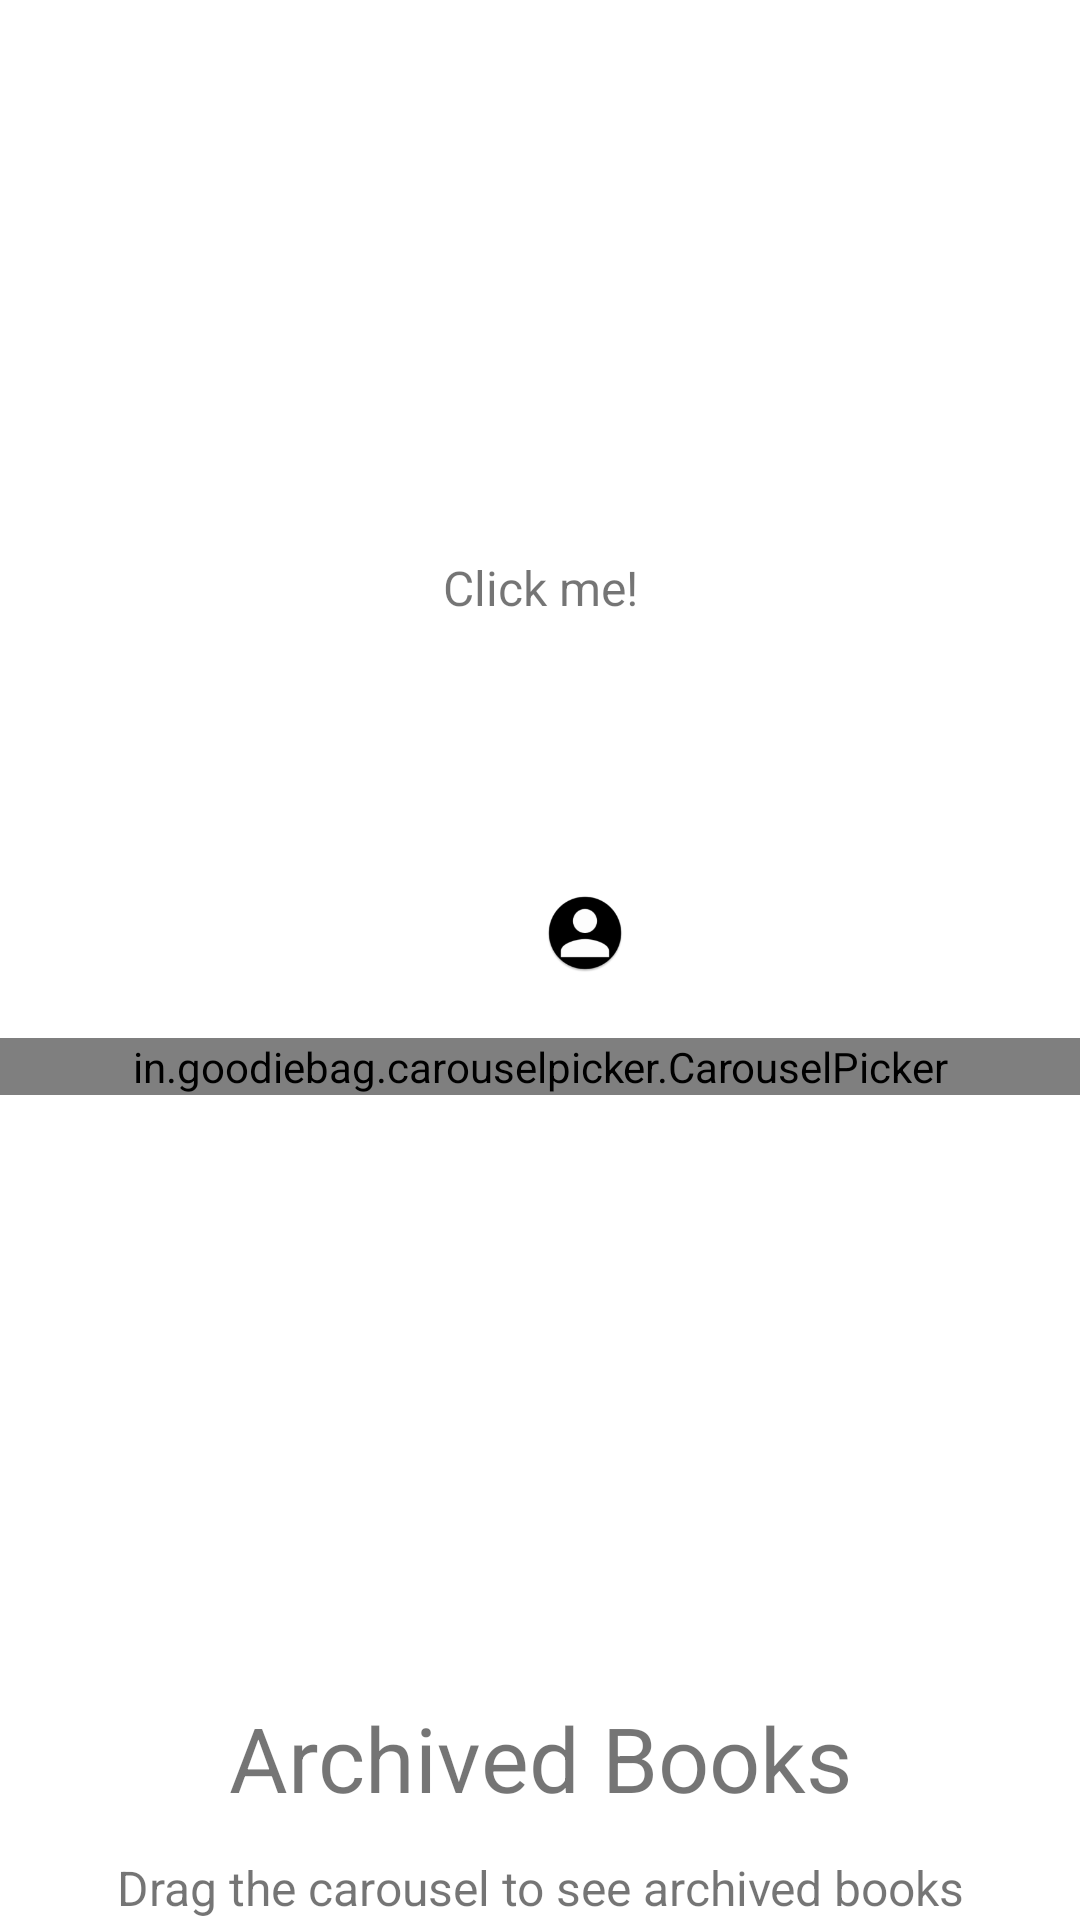

Where to tap for icons on this 1080x1920 app screen, as point (x, y):
contributor: point (585, 933)
